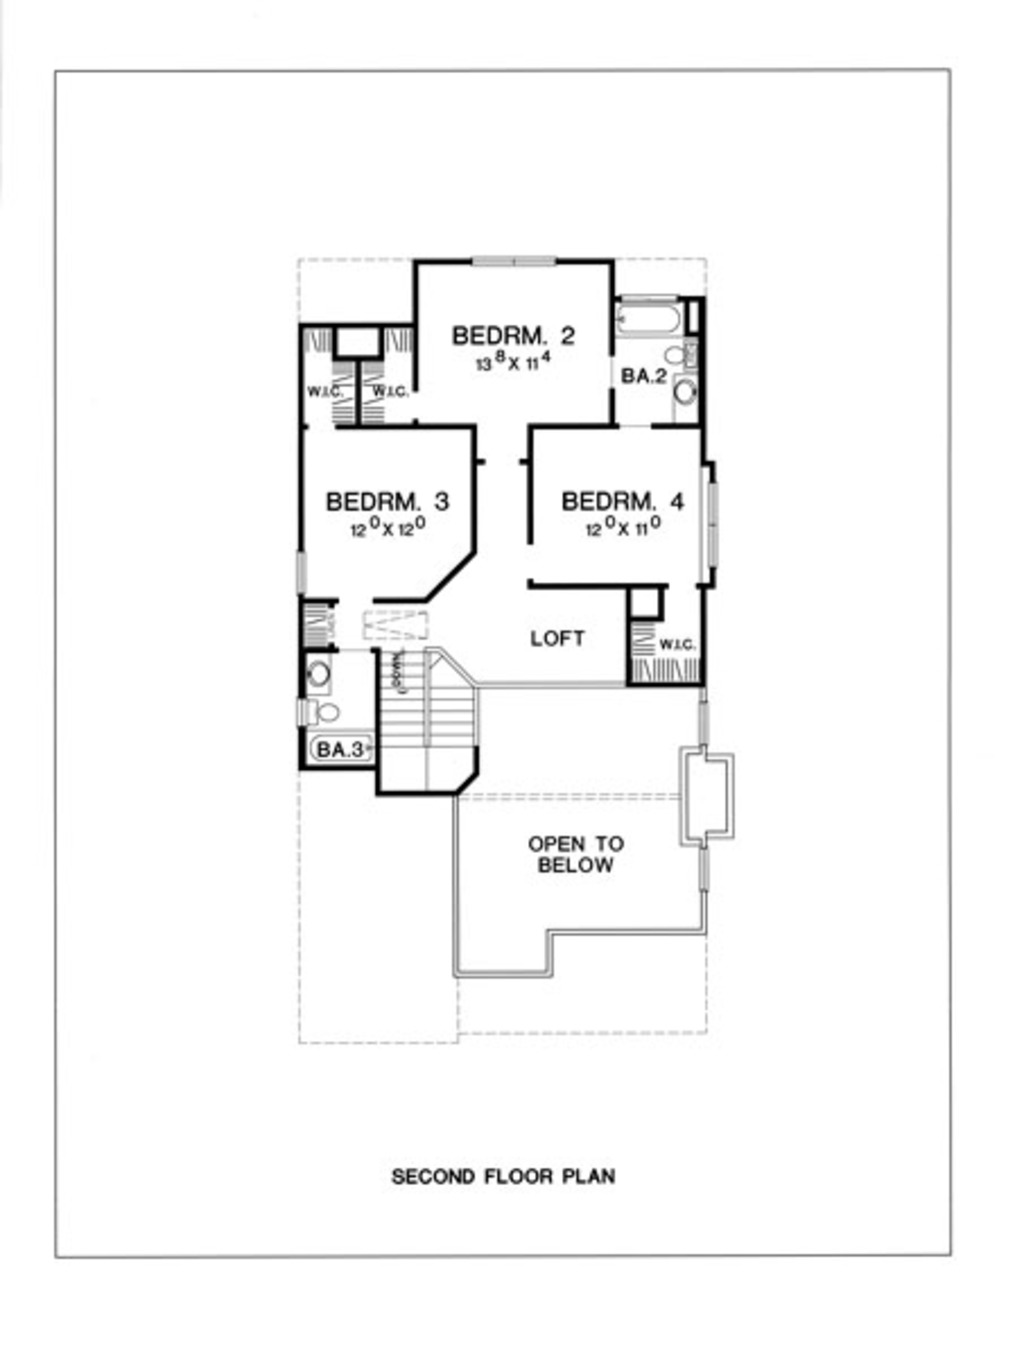large_sink: (645, 339, 714, 376), (299, 693, 349, 730)
small_sink: (658, 376, 699, 424), (297, 653, 341, 695)
stairs: (368, 645, 481, 799)
tub: (610, 287, 703, 337), (303, 732, 374, 776)
window: (463, 241, 564, 274), (699, 470, 724, 593), (283, 543, 316, 597), (691, 684, 714, 757), (695, 839, 710, 903)
